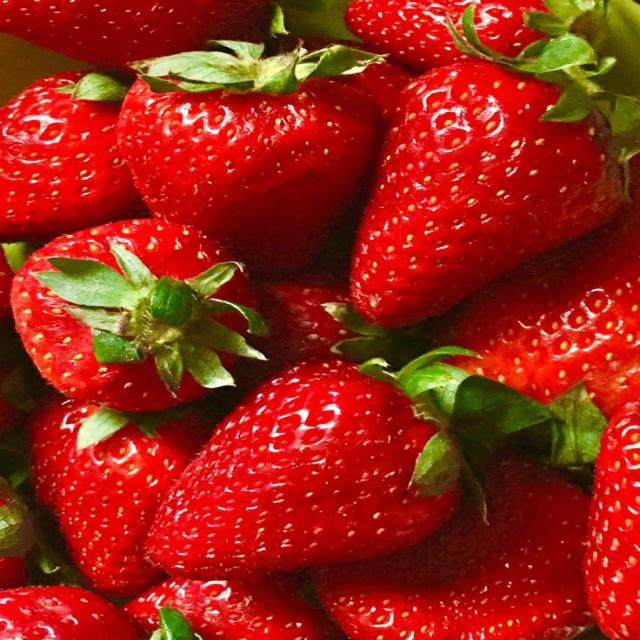strawberry: (352, 62, 620, 326), (147, 362, 458, 579), (119, 42, 381, 273), (317, 460, 591, 639), (13, 220, 262, 411), (443, 211, 639, 416), (31, 396, 207, 596), (0, 72, 142, 242), (0, 0, 270, 67), (258, 274, 429, 367), (347, 0, 547, 71), (586, 401, 639, 639), (126, 576, 326, 639), (258, 278, 355, 367), (0, 586, 139, 639), (339, 58, 415, 118), (341, 59, 414, 119), (0, 478, 33, 589), (0, 247, 13, 324), (0, 556, 27, 590)
